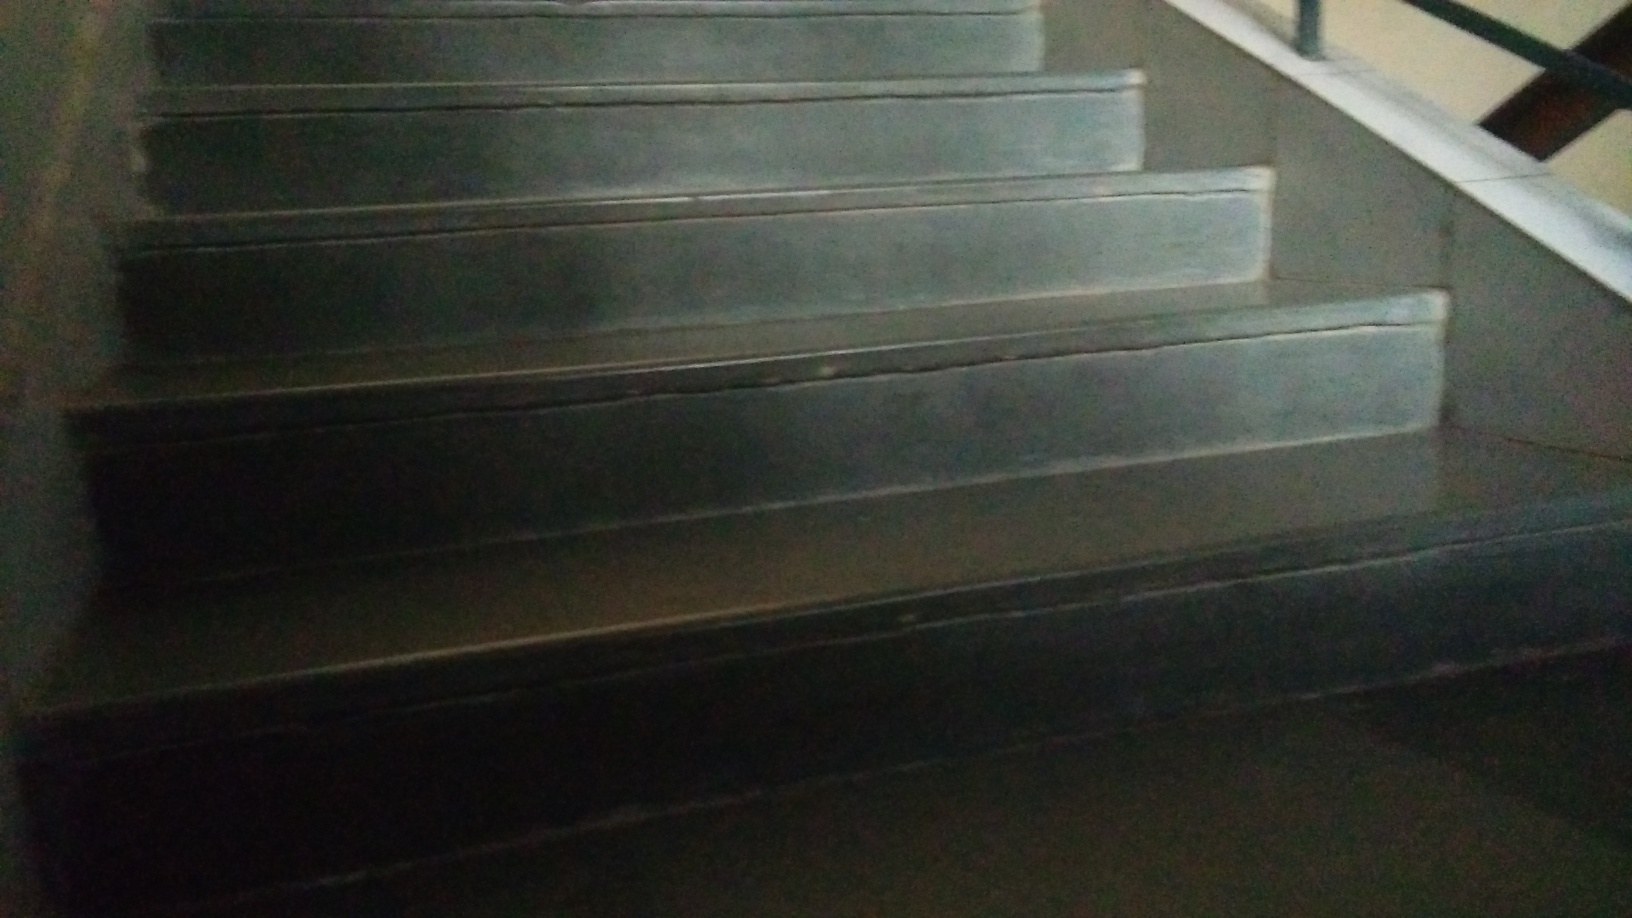stairs_up: (66, 3, 1605, 757)
